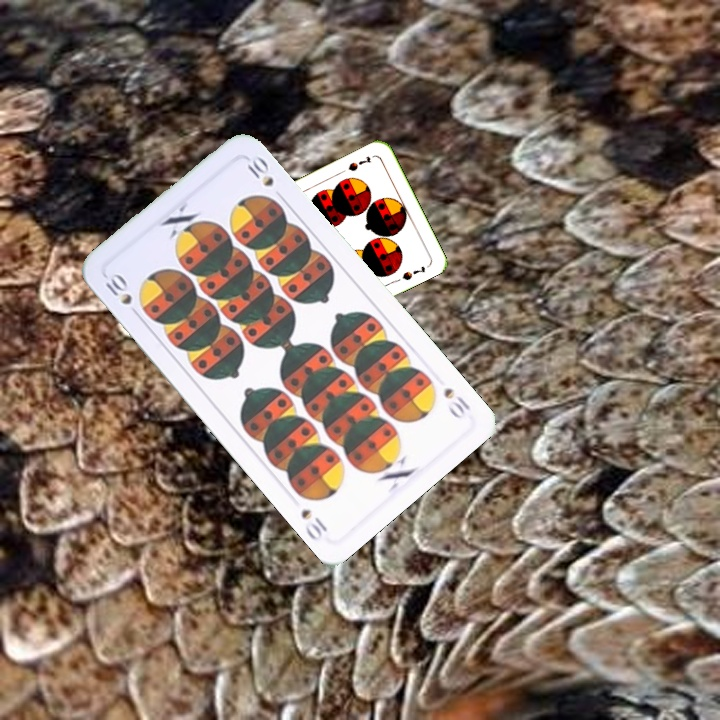S10: (100, 268, 143, 321), (439, 383, 473, 421)
S7: (344, 152, 373, 174)
